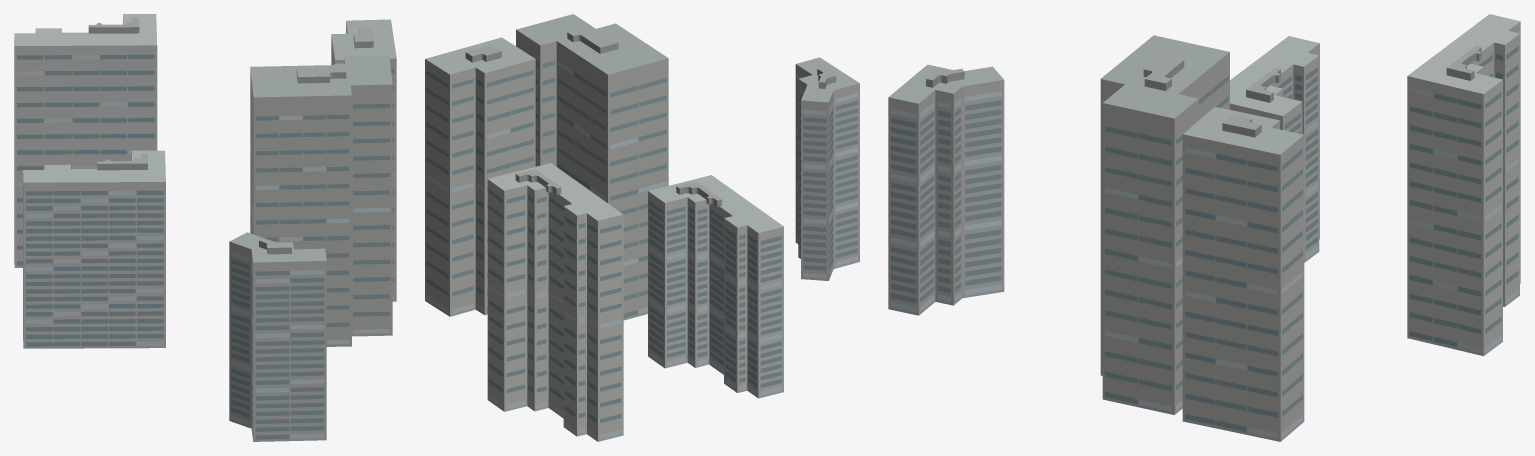
Rendered from apt-a10024626.glb.
3 views of the same model, side by side, from view 1: azimuth 30°, elevation 25°; view 2: azimuth 150°, elevation 25°; view 3: azimuth 270°, elevation 25° (orthographic). The views are drawn at different scales.
Visible parts, largest first — view 1: apt-a10024626; view 2: apt-a10024626; view 3: apt-a10024626.
Boxes of the visible parts, x1,y1,x2,y2 form: apt-a10024626: (14,14,396,441); apt-a10024626: (425,14,859,441); apt-a10024626: (888,14,1520,441).
Size of the model in its own units: 144 by 97 by 183.
